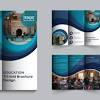paper: (1, 10, 37, 91), (51, 53, 100, 92), (52, 9, 100, 46)
